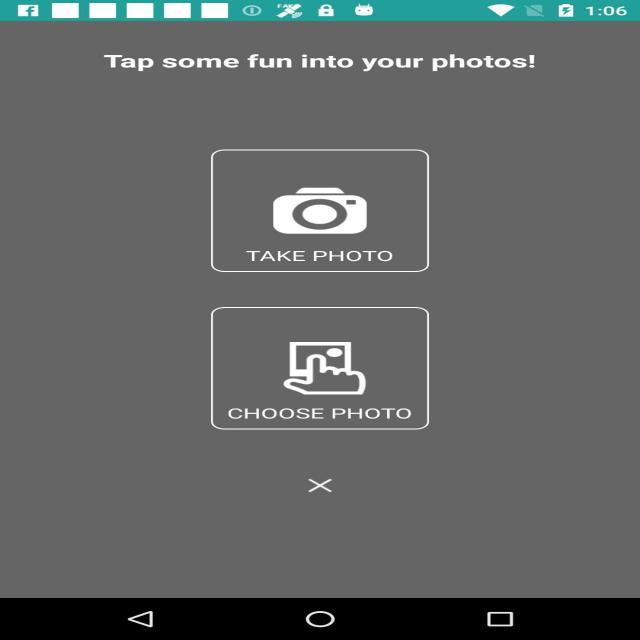button: (184, 298, 488, 439), (202, 138, 484, 281)
icon: (295, 466, 355, 502)
image: (272, 336, 386, 401), (262, 182, 370, 241)
text: (86, 45, 559, 82), (218, 404, 410, 429), (235, 245, 406, 269)
